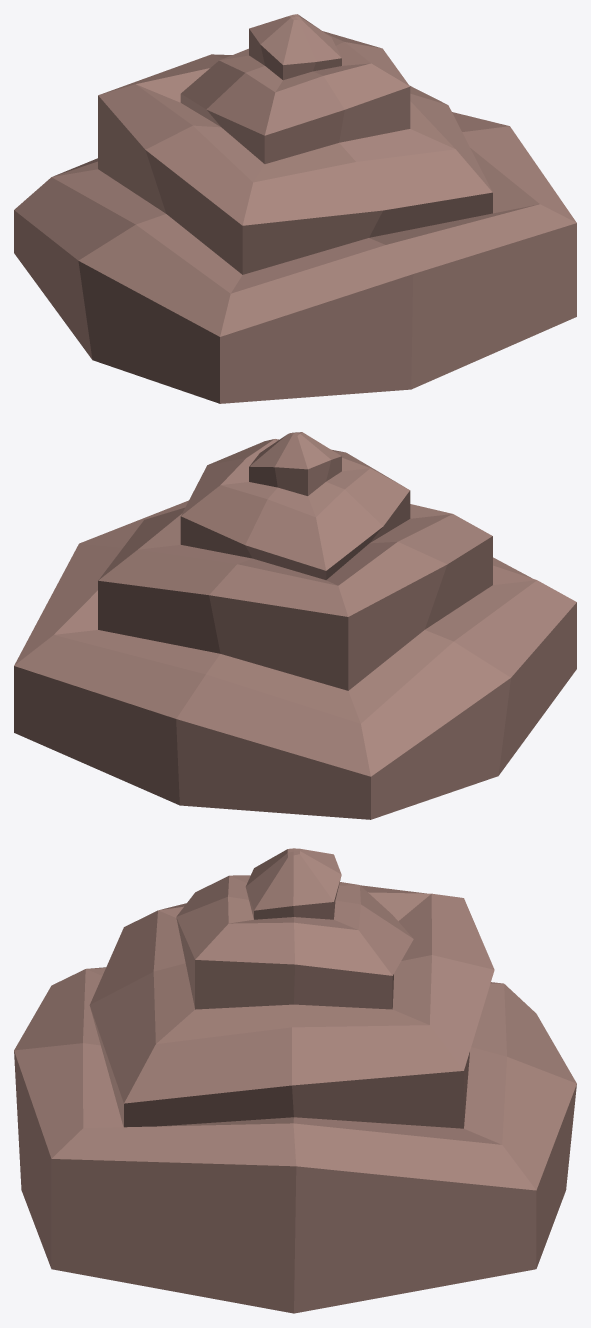
The model's file is dung.fbx.
3 renders of one model, top to bottom at view 1: azimuth 30°, elevation 25°; view 2: azimuth 150°, elevation 25°; view 3: azimuth 270°, elevation 25°, orthographic. The views are drawn at different scales.
Parts seen in each view (by area): view 1: Cube; view 2: Cube; view 3: Cube.
Part boxes in pixels (left/top/right/bottom): Cube: left=14, top=14, right=576, bottom=403; Cube: left=14, top=432, right=576, bottom=819; Cube: left=14, top=848, right=576, bottom=1313.
Size of the model in its own units: 98.03 by 65.4 by 94.07.
